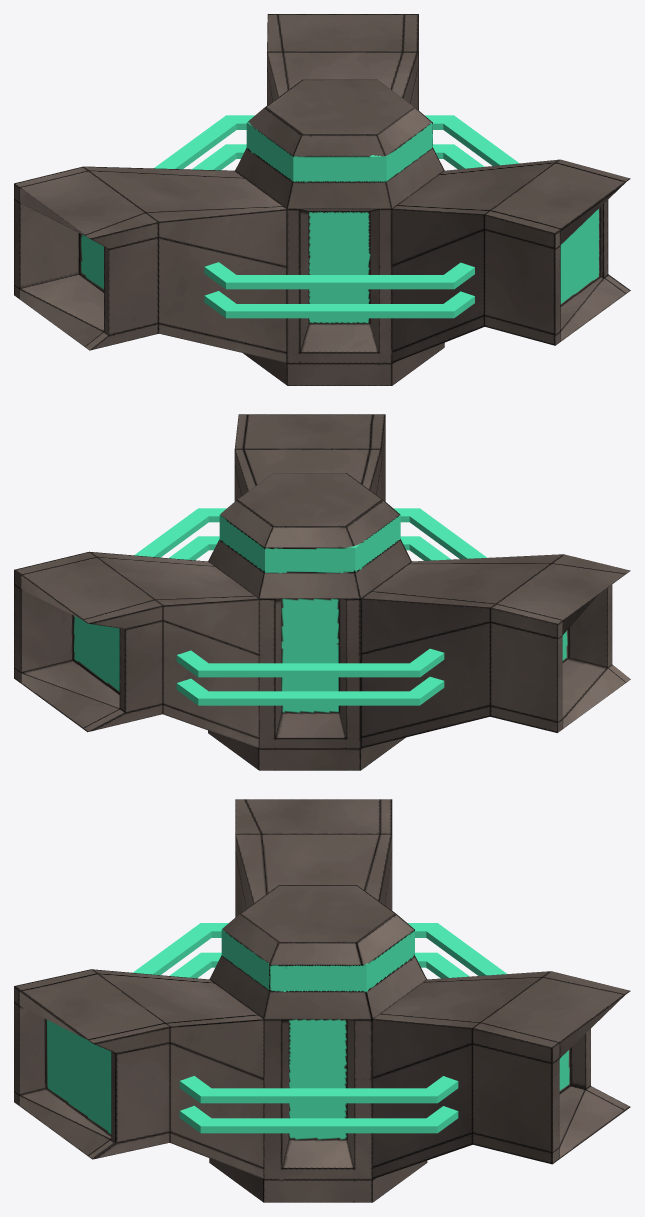
The model's file is baseMIL.fbx.
3 views of the same model, one above another, from view 1: azimuth 30°, elevation 25°; view 2: azimuth 150°, elevation 25°; view 3: azimuth 270°, elevation 25° (orthographic). The views are drawn at different scales.
Visible parts, largest first — view 1: Cylinder; view 2: Cylinder; view 3: Cylinder.
Part boxes in pixels (box(x1,y1,x2,y2)): Cylinder: box(14, 14, 630, 385); Cylinder: box(14, 414, 630, 770); Cylinder: box(14, 799, 630, 1202).
Size of the model in its own units: 5.31 by 2.53 by 5.67.
